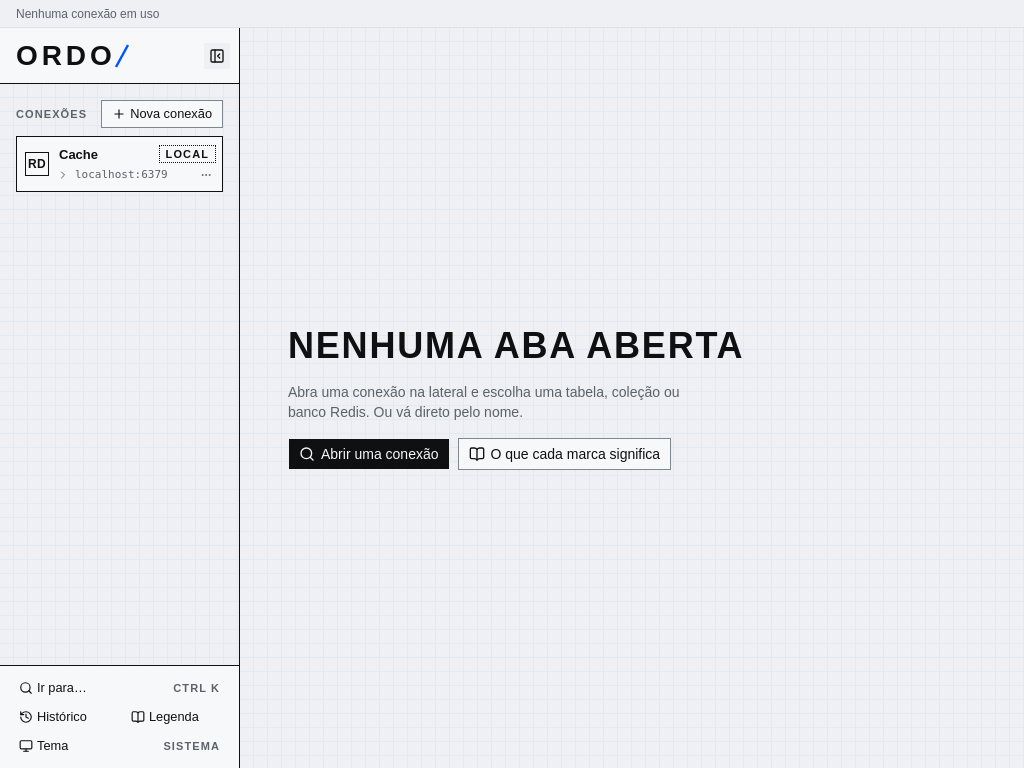
Test: the limit ends MONITOR with the reason
This screenshot has width=1024, height=768.
Click the list item "RD Cache Local localhost:6379" at (120, 164), box [17, 137, 222, 191]
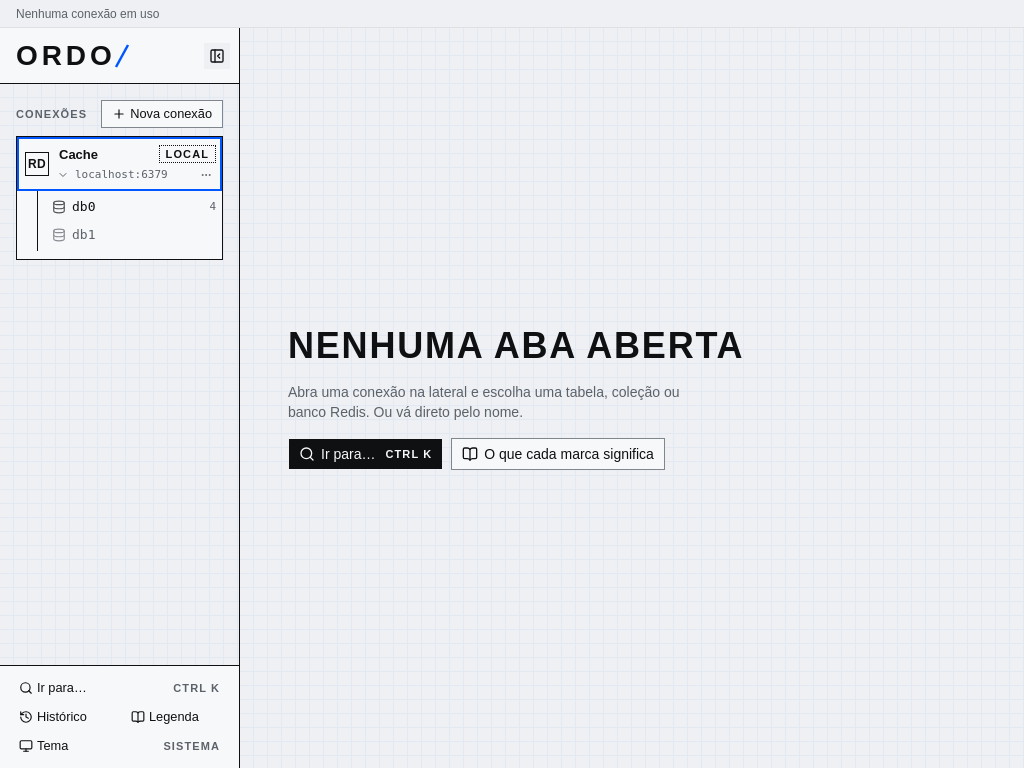
Click the list item "db0 4" at (134, 207), box [46, 193, 222, 221]
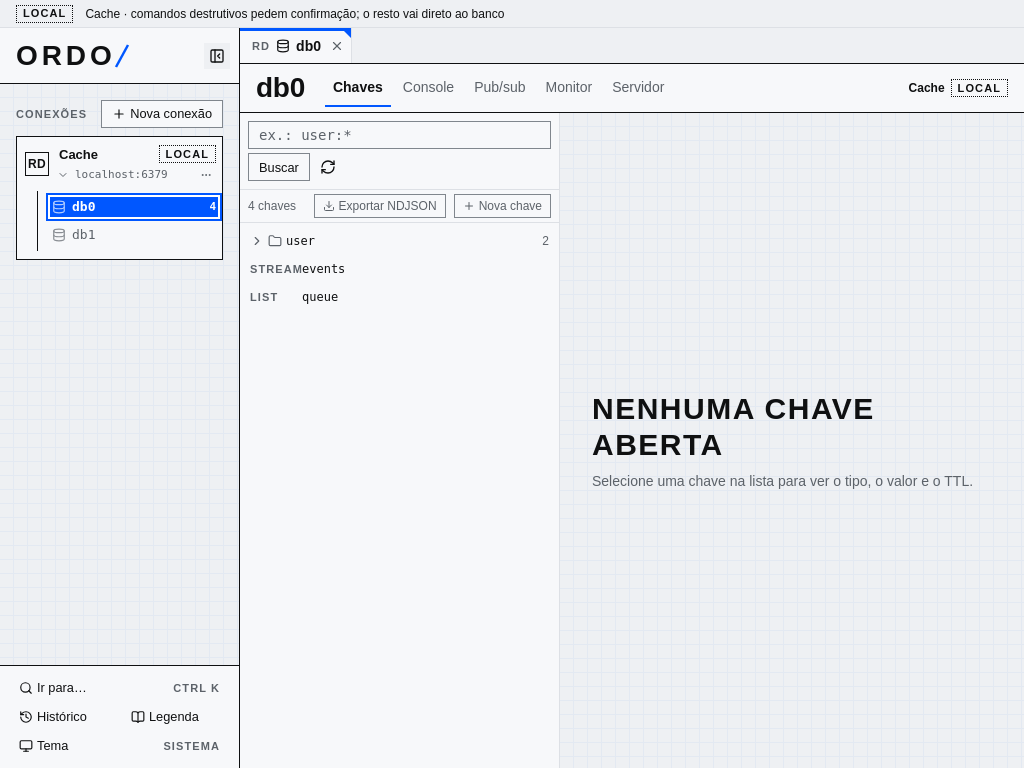
Click the tab "Monitor" at (569, 88), box [538, 69, 600, 107]
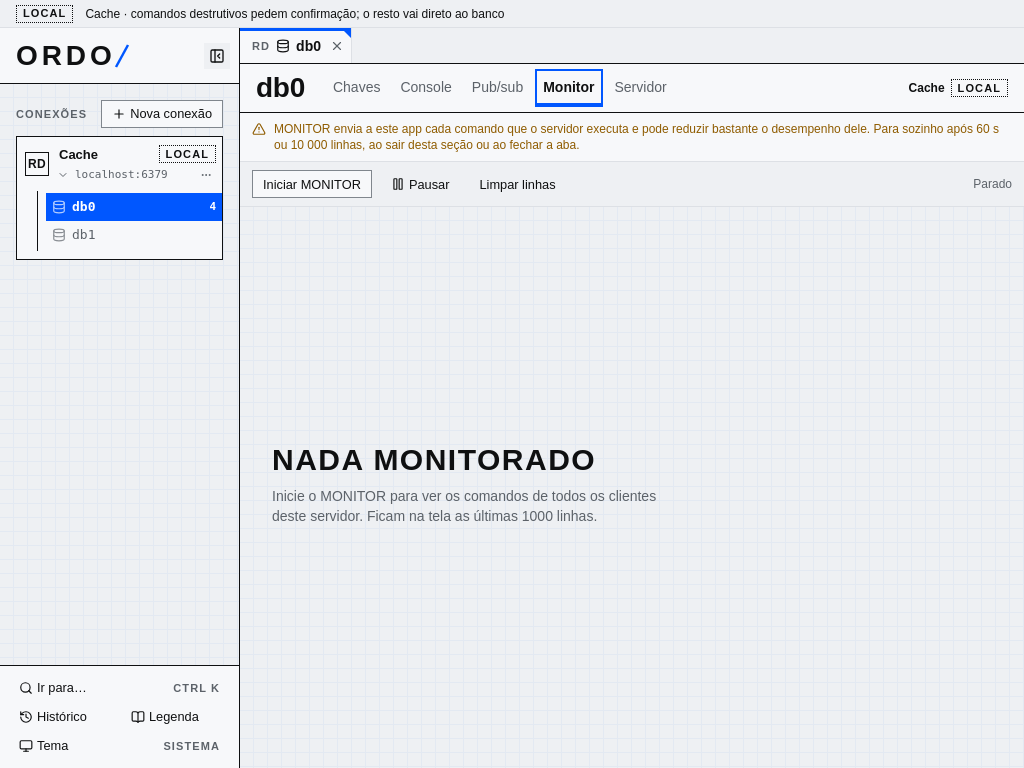
Click the button "Iniciar MONITOR" at (312, 184), box [252, 170, 372, 198]
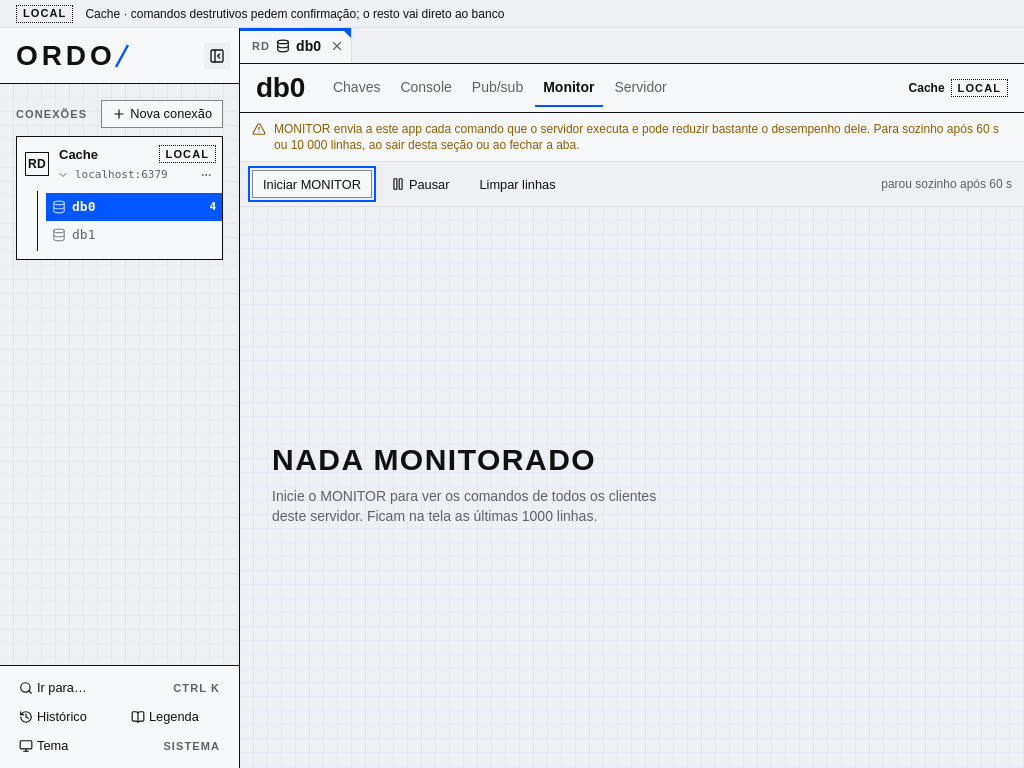
expect the button "Iniciar MONITOR" is enabled: met, box [252, 170, 372, 198]
expect the text "parou sozinho após 60 s" is shown: met, box [881, 176, 1012, 192]
